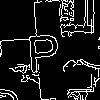P: (25, 25, 62, 73)
